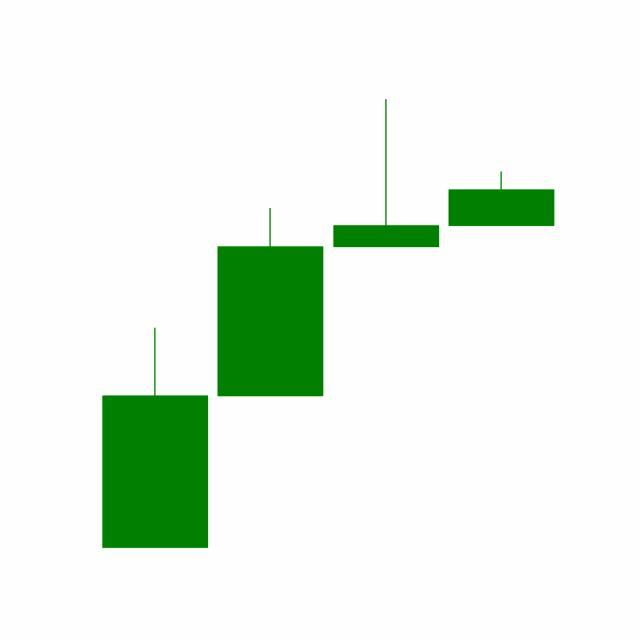Gravestone Doji: (329, 98, 445, 249)
